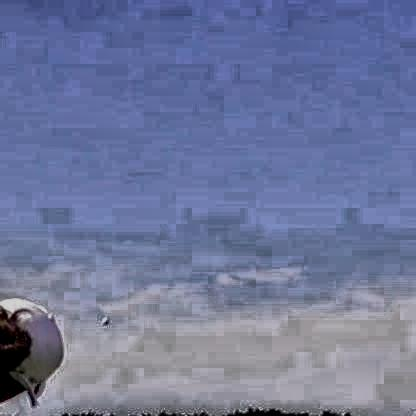golfball: (99, 314, 109, 324)
